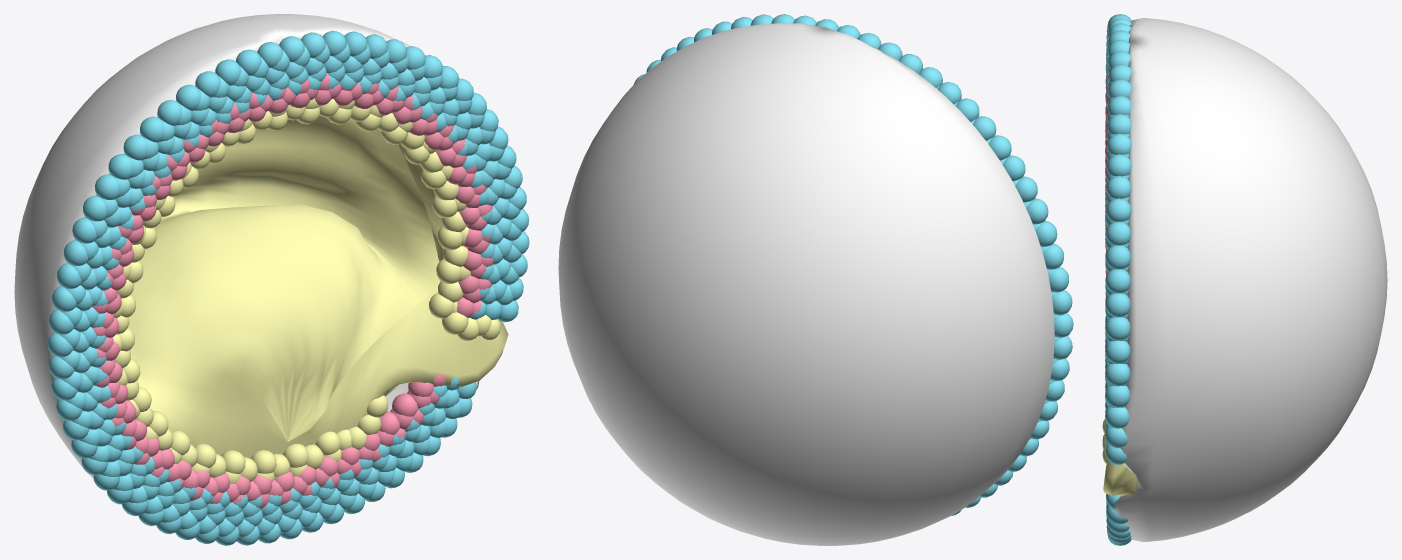
3 renders of one model, left to right at view 1: azimuth 30°, elevation 25°; view 2: azimuth 150°, elevation 25°; view 3: azimuth 270°, elevation 25°, orthographic. The views are drawn at different scales.
Visible parts, largest first — view 1: endoderm, MASH2_ReproMesh, pSphere2, DorsalBlastopore, MASH3_ReproMesh; view 2: pSphere2, MASH2_ReproMesh; view 3: pSphere2, MASH2_ReproMesh, endoderm, DorsalBlastopore.
Boxes of the visible parts, left/top/right/bottom form: endoderm: left=128, top=115, right=508, bottom=458; MASH2_ReproMesh: left=47, top=30, right=529, bottom=545; pSphere2: left=14, top=14, right=479, bottom=478; DorsalBlastopore: left=92, top=73, right=493, bottom=508; MASH3_ReproMesh: left=113, top=98, right=470, bottom=483; pSphere2: left=558, top=23, right=1054, bottom=545; MASH2_ReproMesh: left=633, top=14, right=1073, bottom=515; pSphere2: left=1114, top=18, right=1387, bottom=542; MASH2_ReproMesh: left=1105, top=14, right=1131, bottom=545; endoderm: left=1103, top=462, right=1138, bottom=496; DorsalBlastopore: left=1105, top=64, right=1108, bottom=410.
Size of the model in its own units: 0.2079 by 0.2077 by 0.1113.
